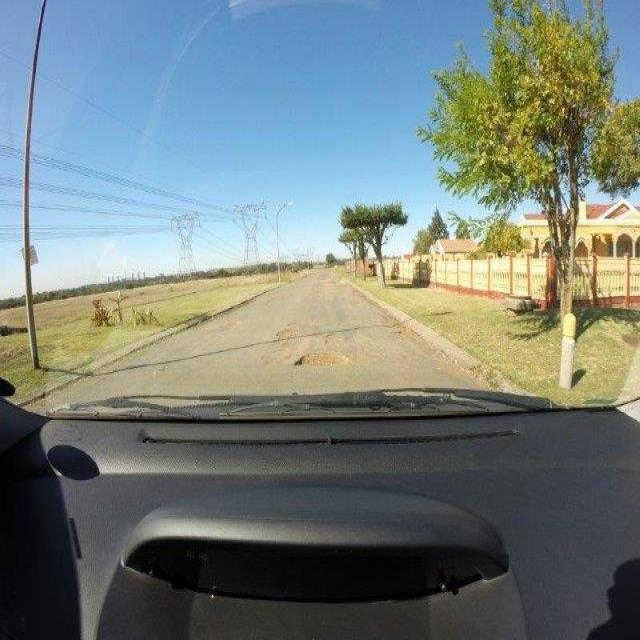lubang: (291, 349, 352, 368), (384, 311, 421, 342), (272, 318, 303, 344)
